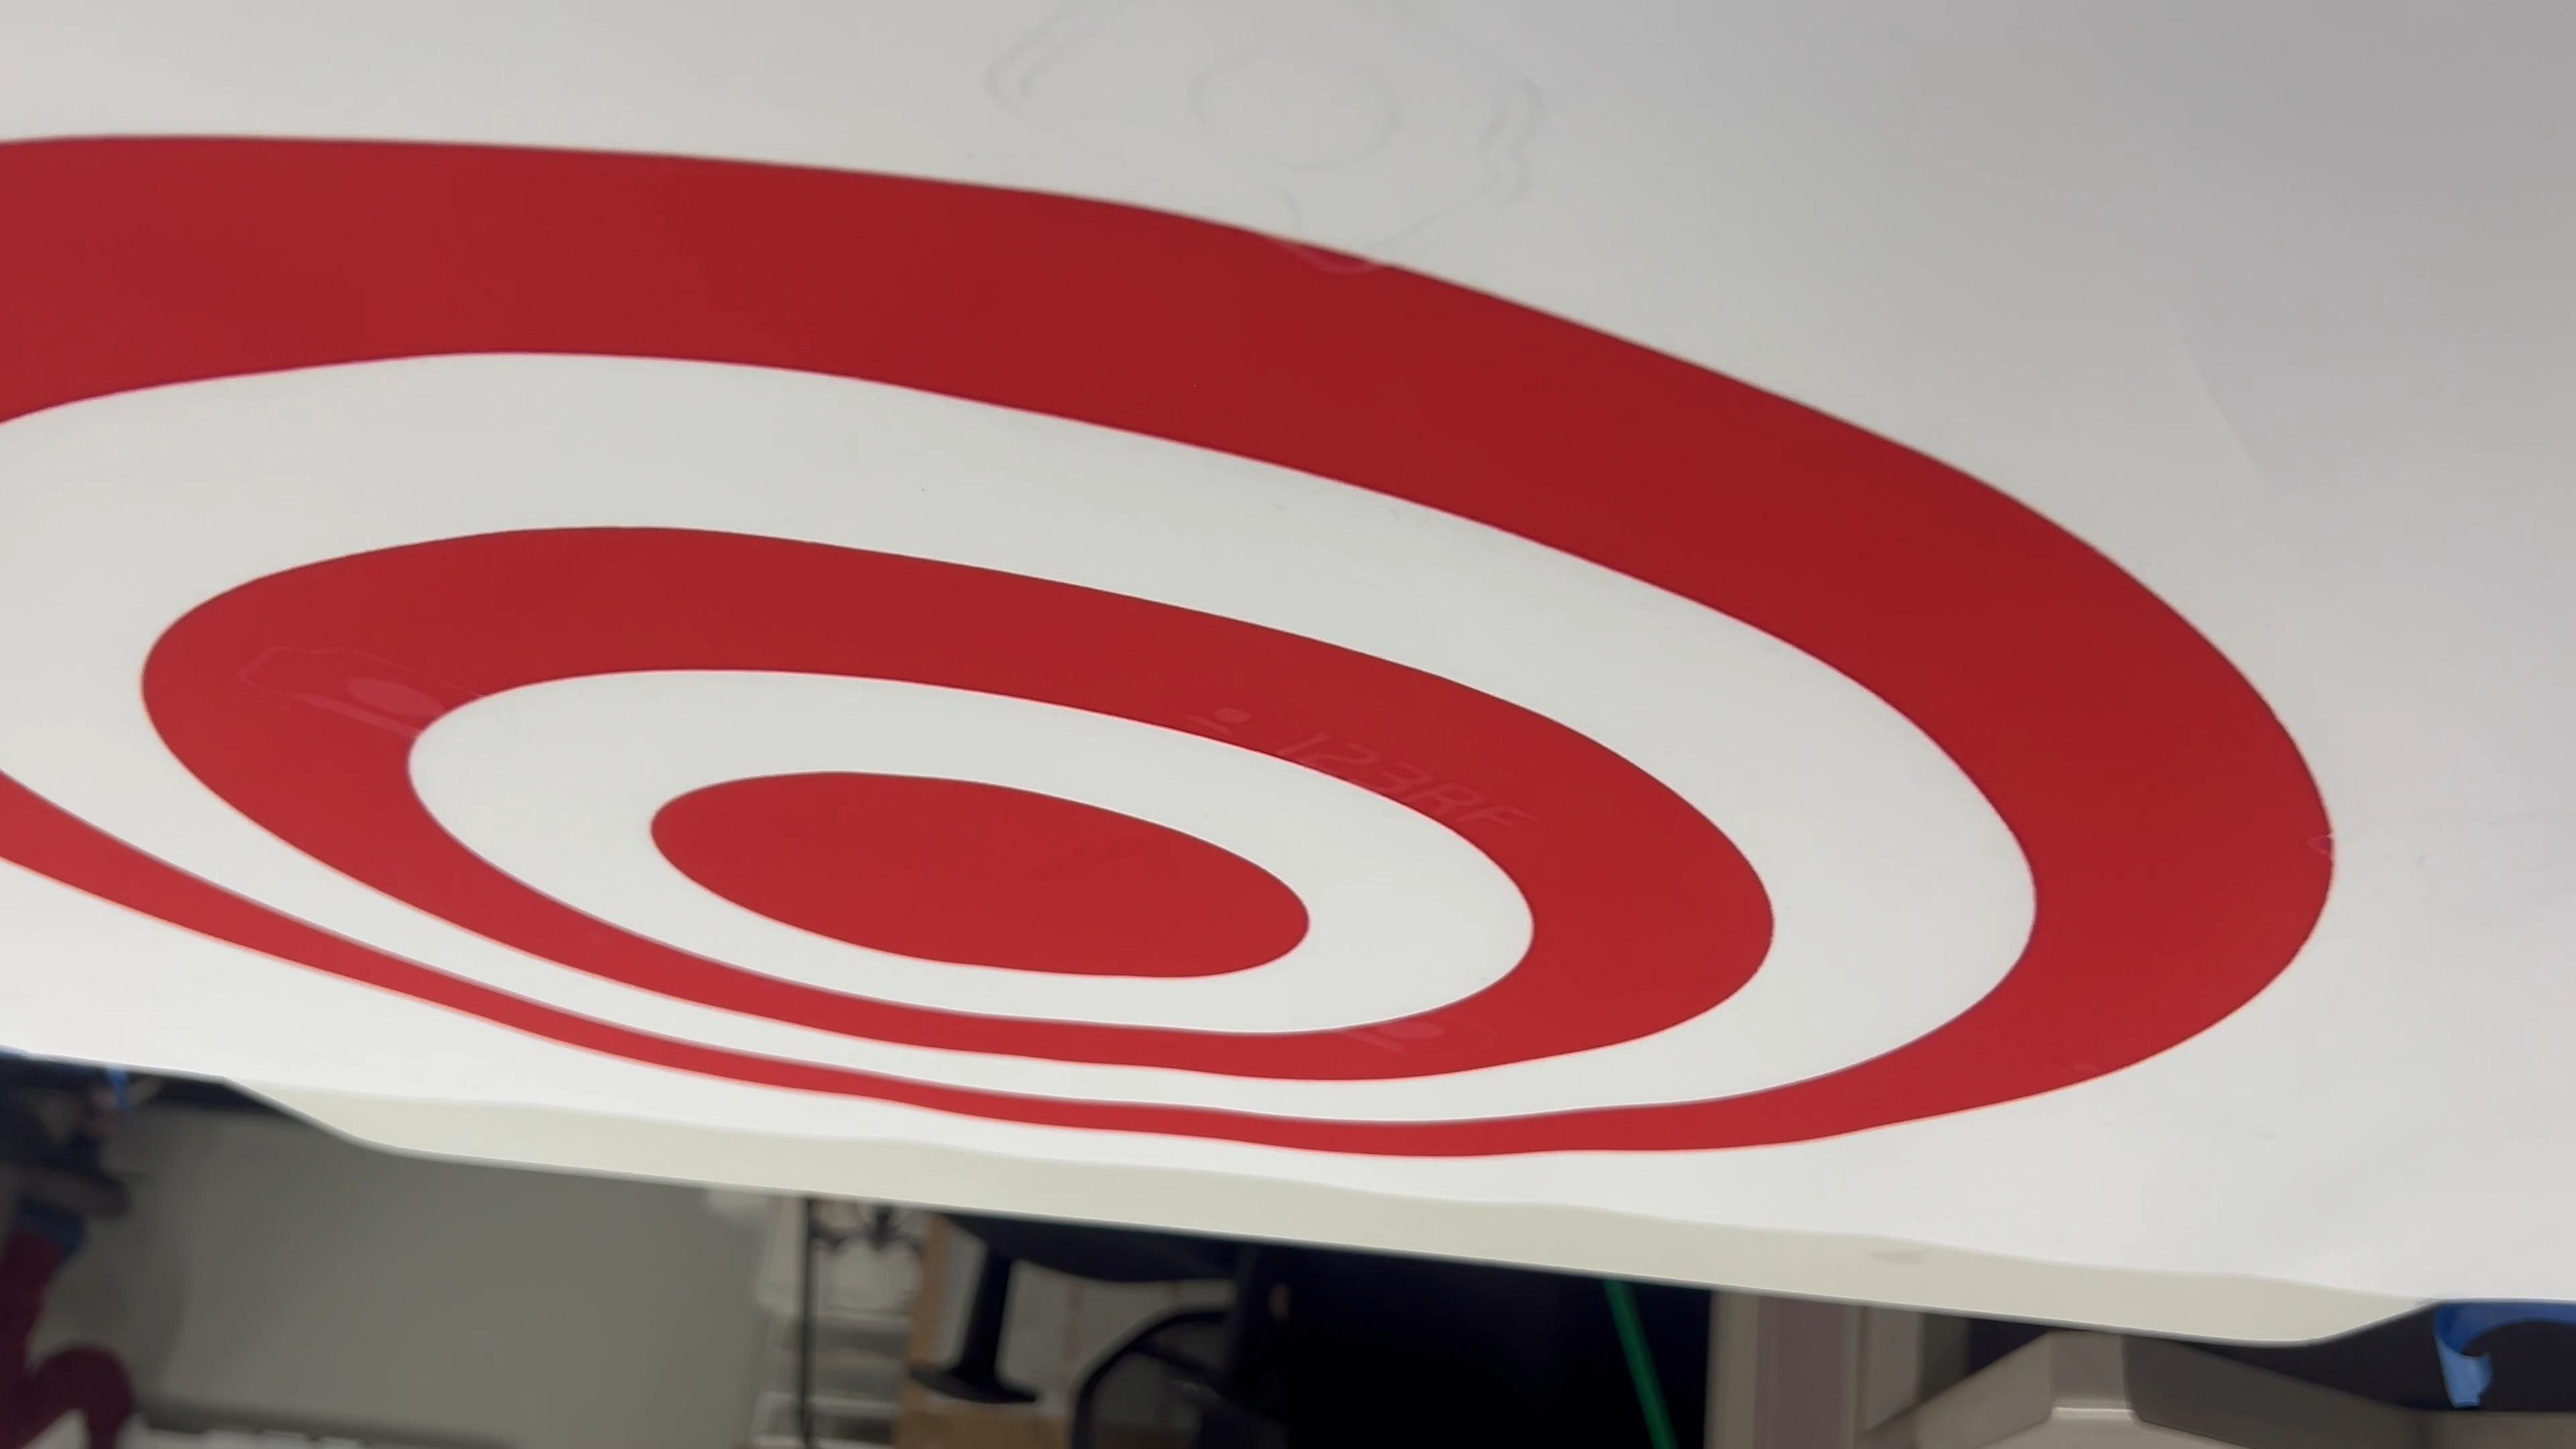target_red: (0, 0, 2452, 1334), (0, 0, 2222, 1182)
